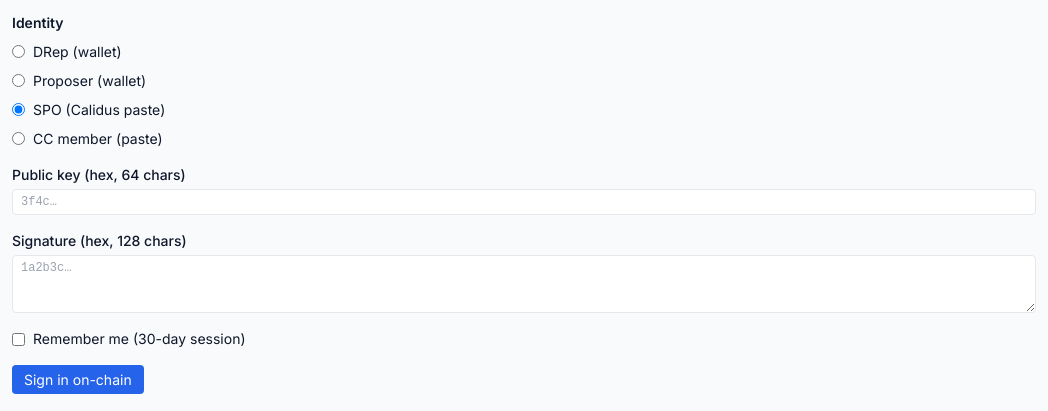
Test case: OnChainLoginForm — default wallet wiring (Sprint 1 follow-up) › renders the disabled wallet hint when no walletName is in the auth store
Click the radio button with test id "onchain-role-drep" at coordinates (18, 52), box x1=12 y1=45 x2=25 y2=58
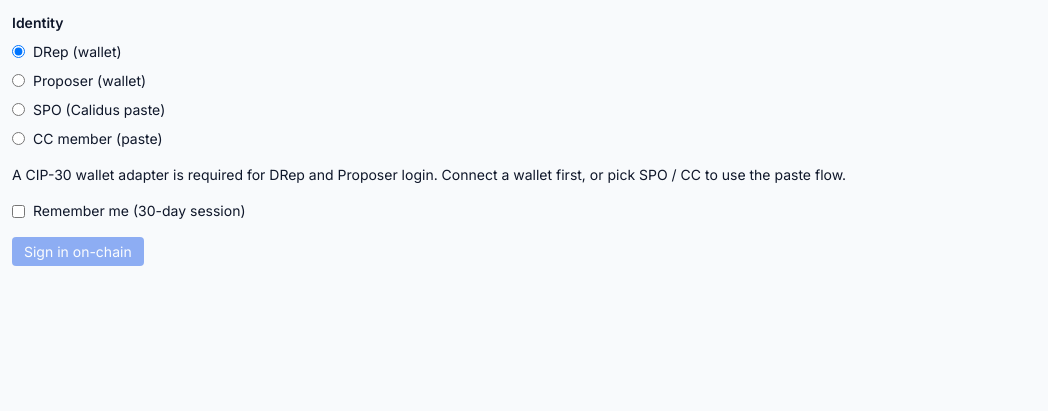
Now the text with test id "onchain-wallet-hint" is shown, box x1=12 y1=166 x2=846 y2=183
Now the button with test id "onchain-submit" is disabled, box x1=12 y1=237 x2=144 y2=266
